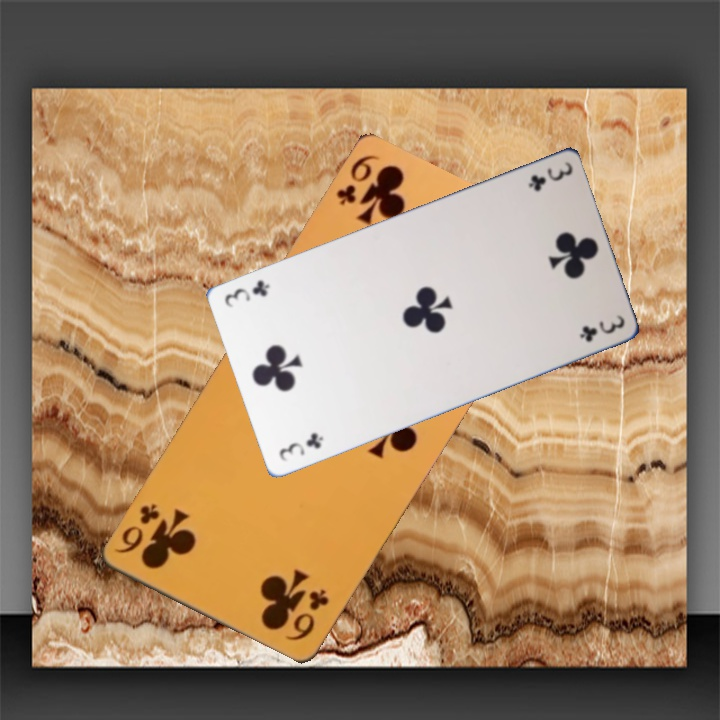3c: (570, 311, 629, 351), (216, 275, 275, 315), (270, 429, 329, 469), (517, 158, 575, 197)
6c: (329, 144, 389, 215), (111, 493, 170, 565), (283, 580, 342, 651)
